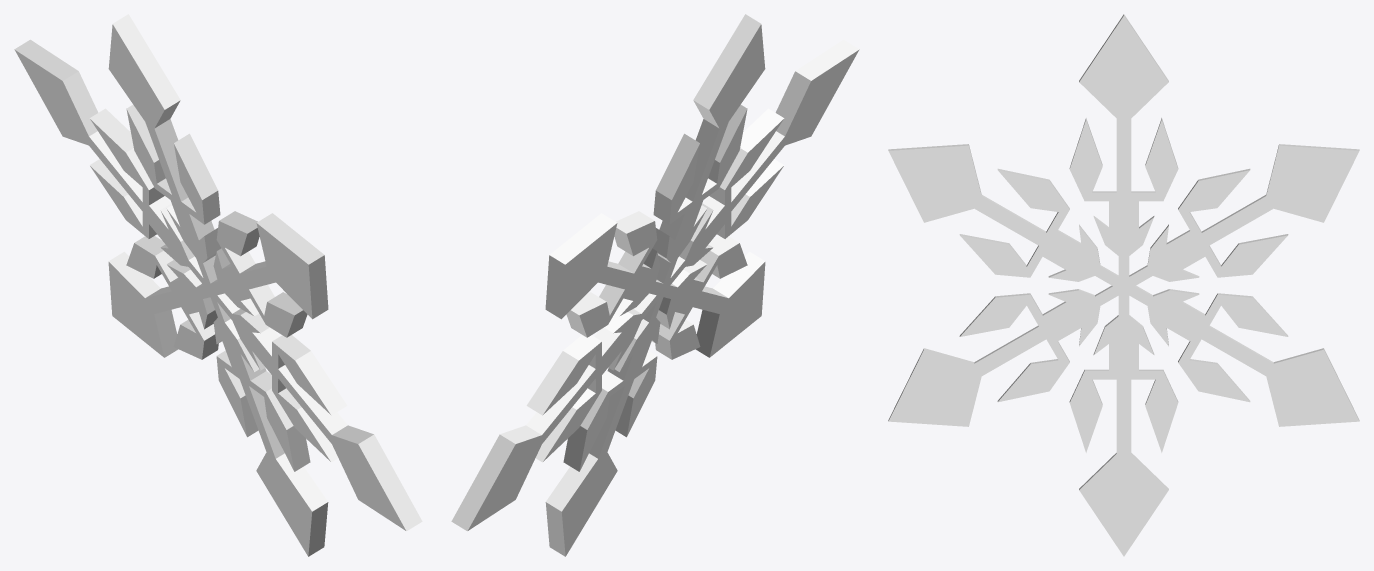
The model's file is NOSE SNOWFLAKE.fbx.
3 renders of one model, left to right at view 1: azimuth 30°, elevation 25°; view 2: azimuth 150°, elevation 25°; view 3: azimuth 270°, elevation 25°, orthographic. The views are drawn at different scales.
Parts seen in each view (by area): view 1: NOSE_SNOWFLAKE; view 2: NOSE_SNOWFLAKE; view 3: NOSE_SNOWFLAKE.
Part boxes in pixels (bbox=[...]): NOSE_SNOWFLAKE: bbox=[14, 14, 422, 556]; NOSE_SNOWFLAKE: bbox=[451, 14, 859, 556]; NOSE_SNOWFLAKE: bbox=[888, 14, 1359, 556].
Size of the model in its own units: 2.02 by 5.34 by 4.85.
